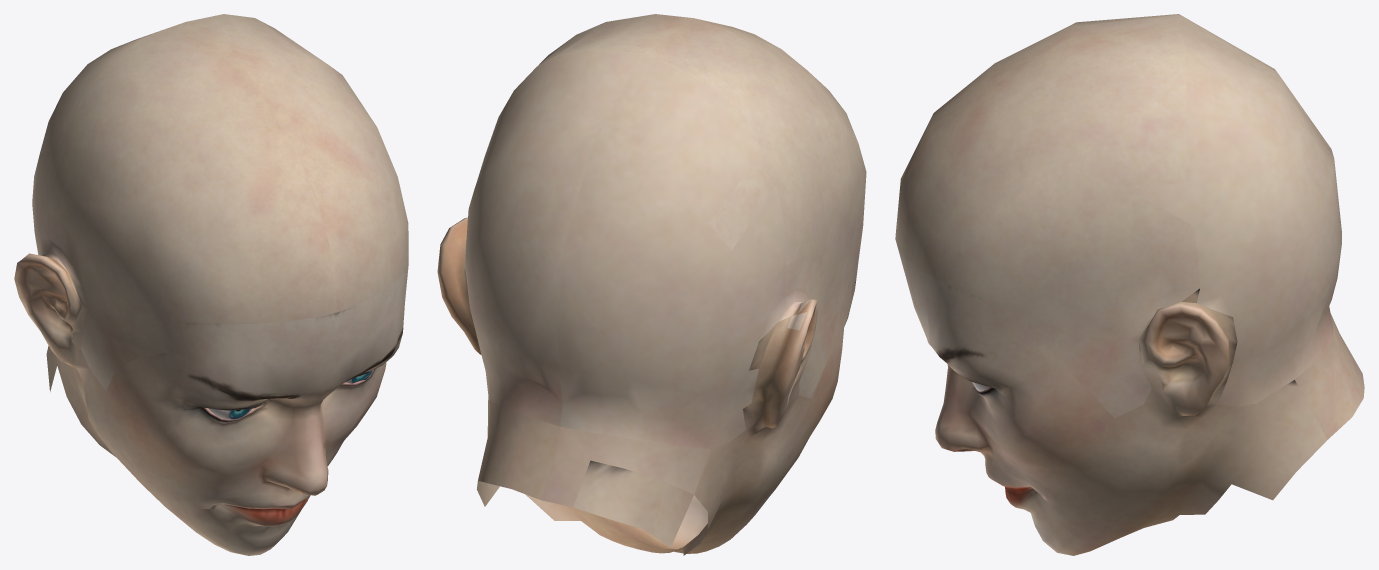
Rendered from head.fbx.
3 renders of one model, left to right at view 1: azimuth 30°, elevation 25°; view 2: azimuth 150°, elevation 25°; view 3: azimuth 270°, elevation 25°, orthographic. The views are drawn at different scales.
Visible parts, largest first — view 1: Cylinder.020; view 2: Cylinder.020; view 3: Cylinder.020.
Boxes of the visible parts, x1,y1,x2,y2 form: Cylinder.020: (14,14,408,555); Cylinder.020: (437,14,866,555); Cylinder.020: (895,14,1364,555).
Size of the model in its own units: 117 by 170 by 141.
1 material, 1 textured.
